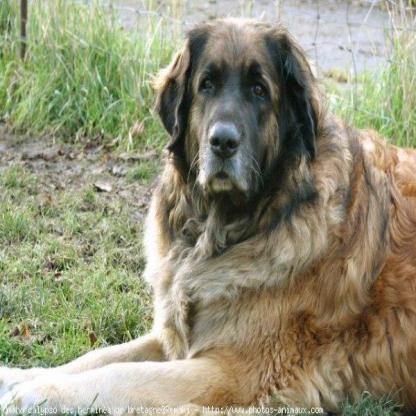Leonberg: (0, 12, 414, 413)
